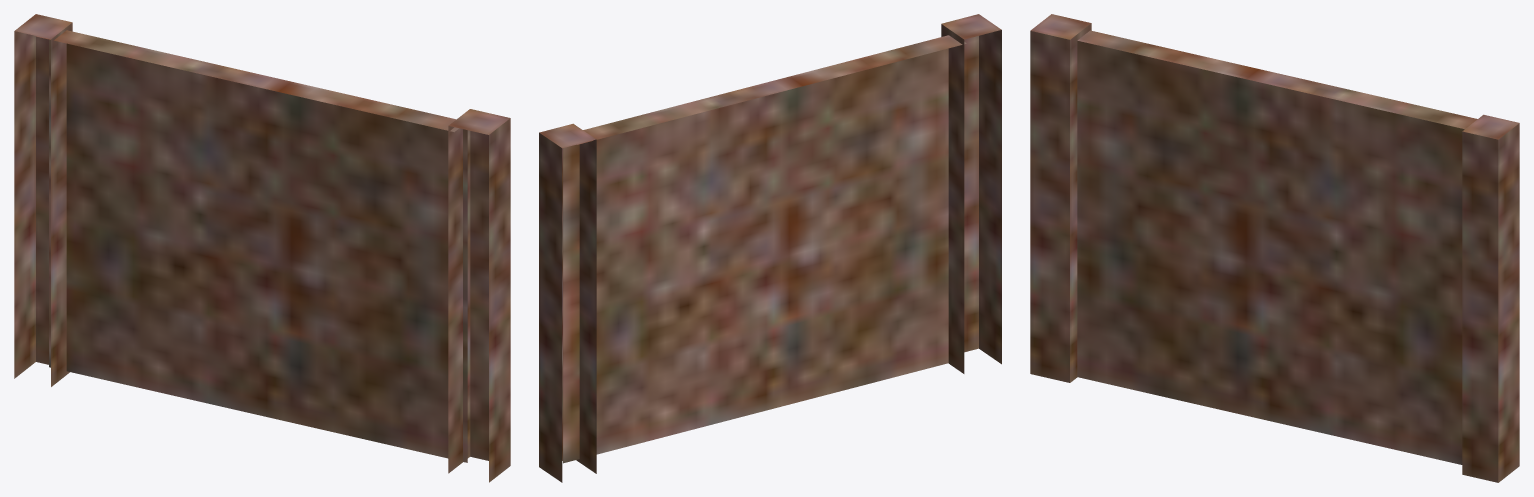
Rendered from Brick_WallHigh_Panel_Rail_1_v0__sq01__1_ (18).fbx.
3 views of the same model, side by side, from view 1: azimuth 90°, elevation 25°; view 2: azimuth 150°, elevation 25°; view 3: azimuth 270°, elevation 25° (orthographic). The views are drawn at different scales.
Parts seen in each view (by area): view 1: Brick_WallHigh_Panel_Rail_1_v0__sq01__1___18_; view 2: Brick_WallHigh_Panel_Rail_1_v0__sq01__1___18_; view 3: Brick_WallHigh_Panel_Rail_1_v0__sq01__1___18_.
Boxes of the visible parts, x1,y1,x2,y2 form: Brick_WallHigh_Panel_Rail_1_v0__sq01__1___18_: [14, 14, 510, 482]; Brick_WallHigh_Panel_Rail_1_v0__sq01__1___18_: [539, 14, 1001, 482]; Brick_WallHigh_Panel_Rail_1_v0__sq01__1___18_: [1030, 14, 1519, 482].
Size of the model in its own units: 156 by 205 by 263.
1 material, 1 textured.
